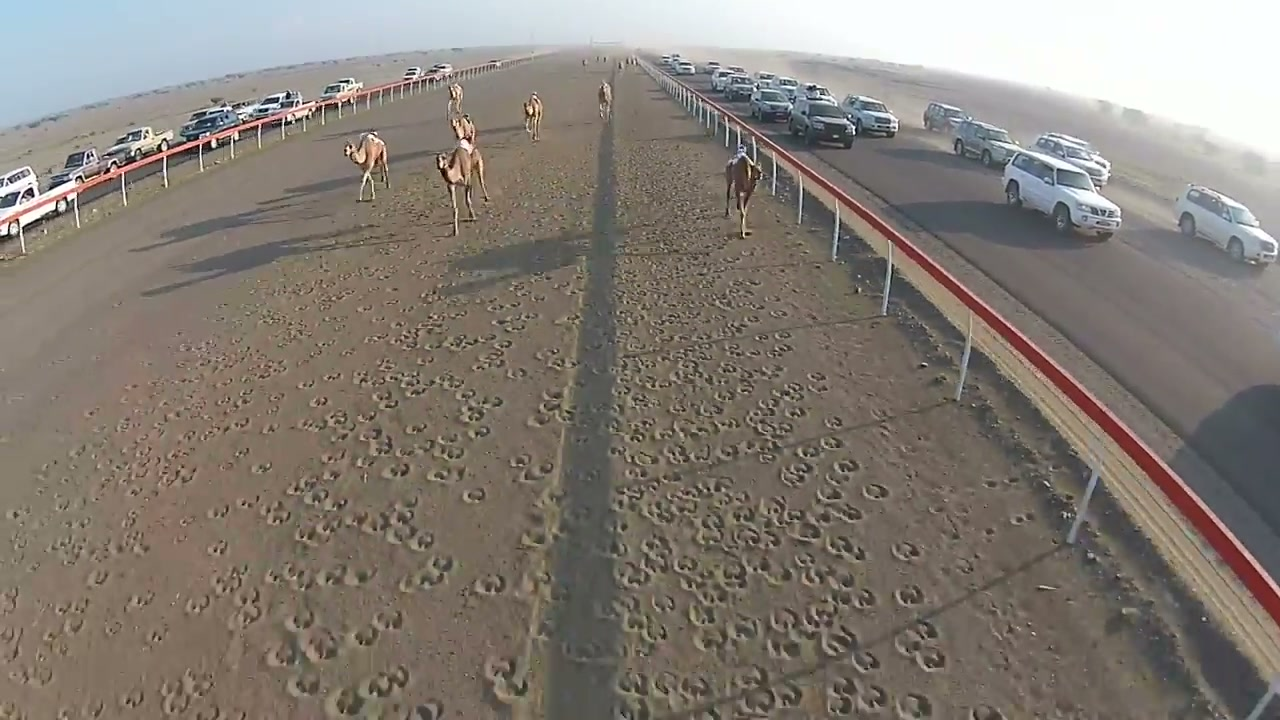animal_foot_print: (0, 77, 1187, 719), (79, 278, 573, 717), (592, 249, 971, 717), (893, 620, 947, 671), (158, 668, 214, 716), (825, 676, 890, 716), (736, 682, 803, 715), (355, 665, 410, 701), (399, 556, 455, 591), (297, 627, 341, 663), (490, 672, 531, 705), (379, 699, 446, 719), (817, 626, 858, 658), (324, 687, 367, 717), (511, 456, 556, 484), (285, 670, 325, 700), (766, 634, 808, 661), (264, 639, 301, 667), (895, 692, 933, 719), (283, 606, 317, 633), (847, 648, 880, 674), (371, 608, 405, 632), (347, 624, 382, 647), (893, 584, 925, 607), (473, 575, 507, 596), (519, 527, 550, 550), (892, 540, 922, 562), (965, 705, 1007, 719), (862, 483, 891, 501), (461, 488, 486, 504)
